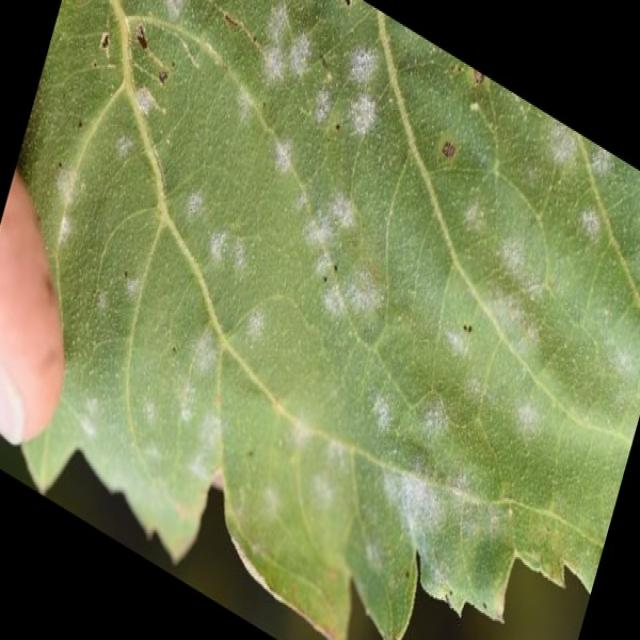Powdery Mildew: (3, 0, 637, 638)
